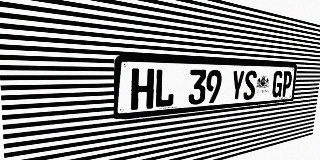3: (188, 69, 207, 105)
9: (205, 70, 222, 104)
G: (271, 71, 283, 98)
H: (131, 68, 154, 110)
L: (154, 69, 175, 108)
P: (281, 71, 292, 97)
S: (243, 70, 257, 100)
Y: (230, 70, 245, 101)
